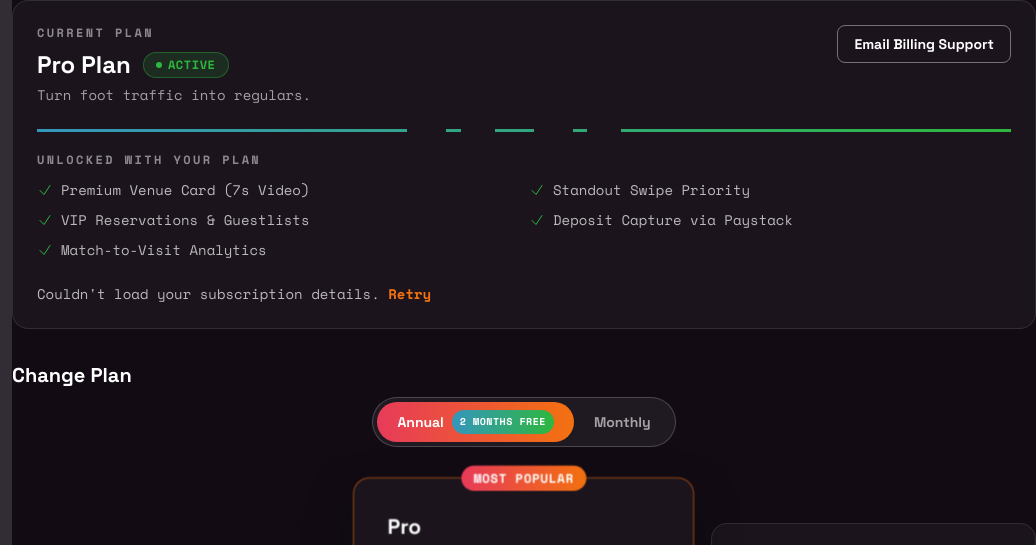
Test case: Billing - self-serve billing portal › offers a retry when the overview lookup fails
Step 1. Click the button with test id "billing-retry" → (410, 294), box [388,284,431,304]
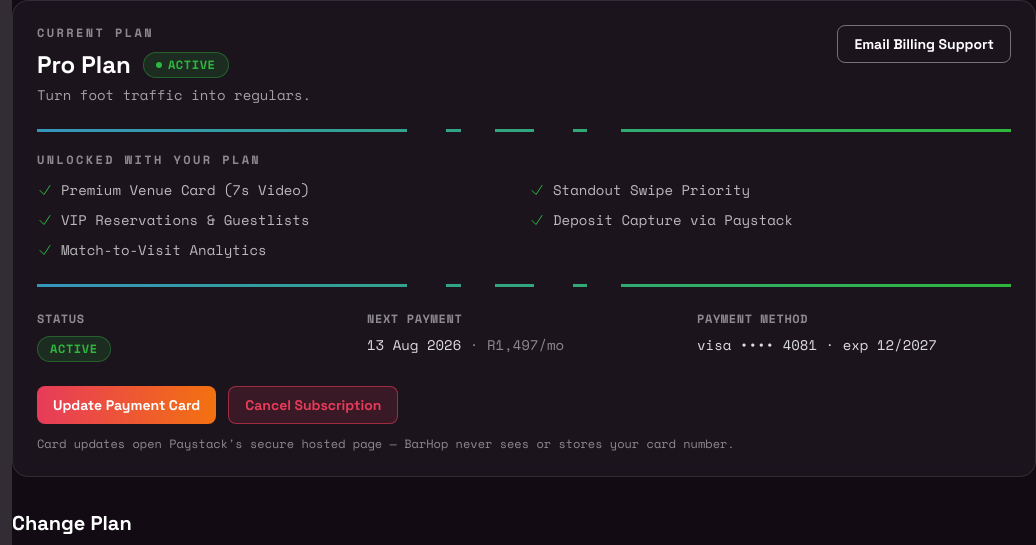
Expected: the text with test id "subscription-status" reads "Active", [50,340,98,357]
